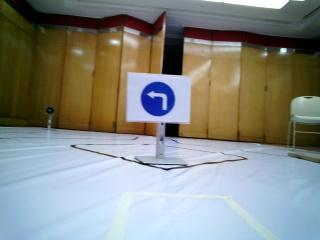left: (126, 72, 192, 124)
